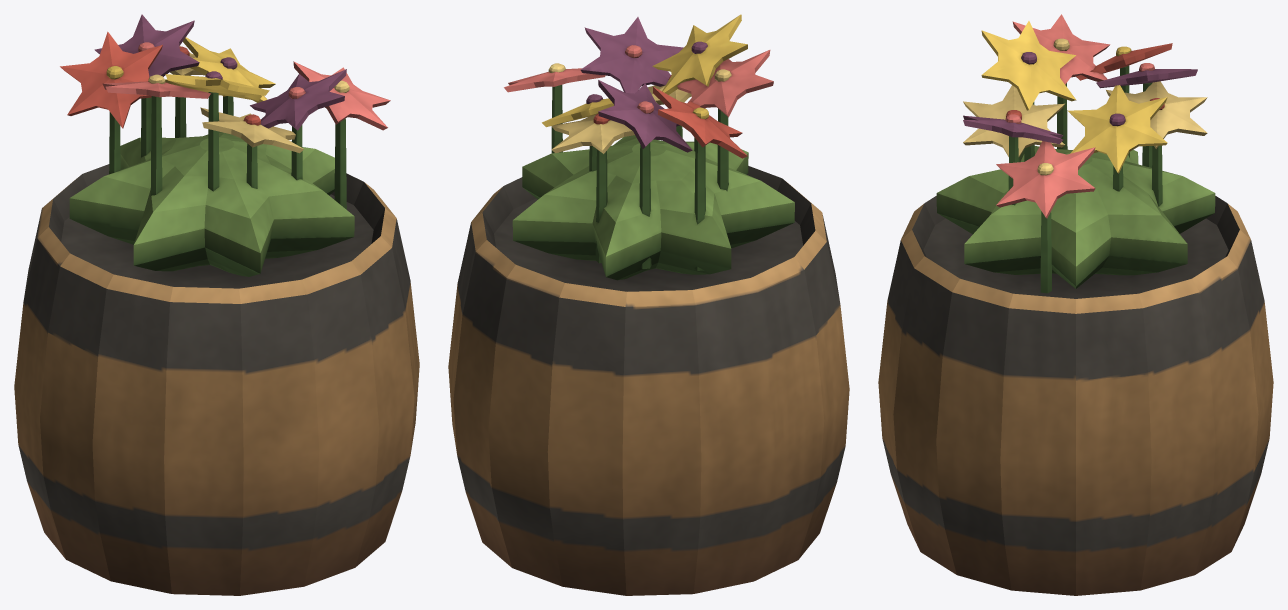
File: planter.glb
3 renders of one model, left to right at view 1: azimuth 30°, elevation 25°; view 2: azimuth 150°, elevation 25°; view 3: azimuth 270°, elevation 25°, orthographic. The views are drawn at different scales.
Parts seen in each view (by area): view 1: Planter; view 2: Planter; view 3: Planter.
Boxes of the visible parts, x1,y1,x2,y2 form: Planter: [14, 14, 419, 595]; Planter: [448, 14, 849, 595]; Planter: [878, 14, 1273, 595].
Size of the model in its own units: 0.704 by 0.9309 by 0.704.
1 material, 1 textured.
